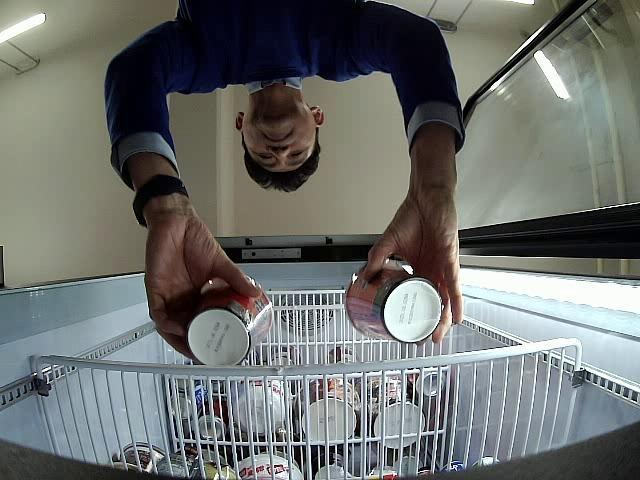02_shinRamen_S: (347, 259, 443, 344), (187, 274, 273, 366)
